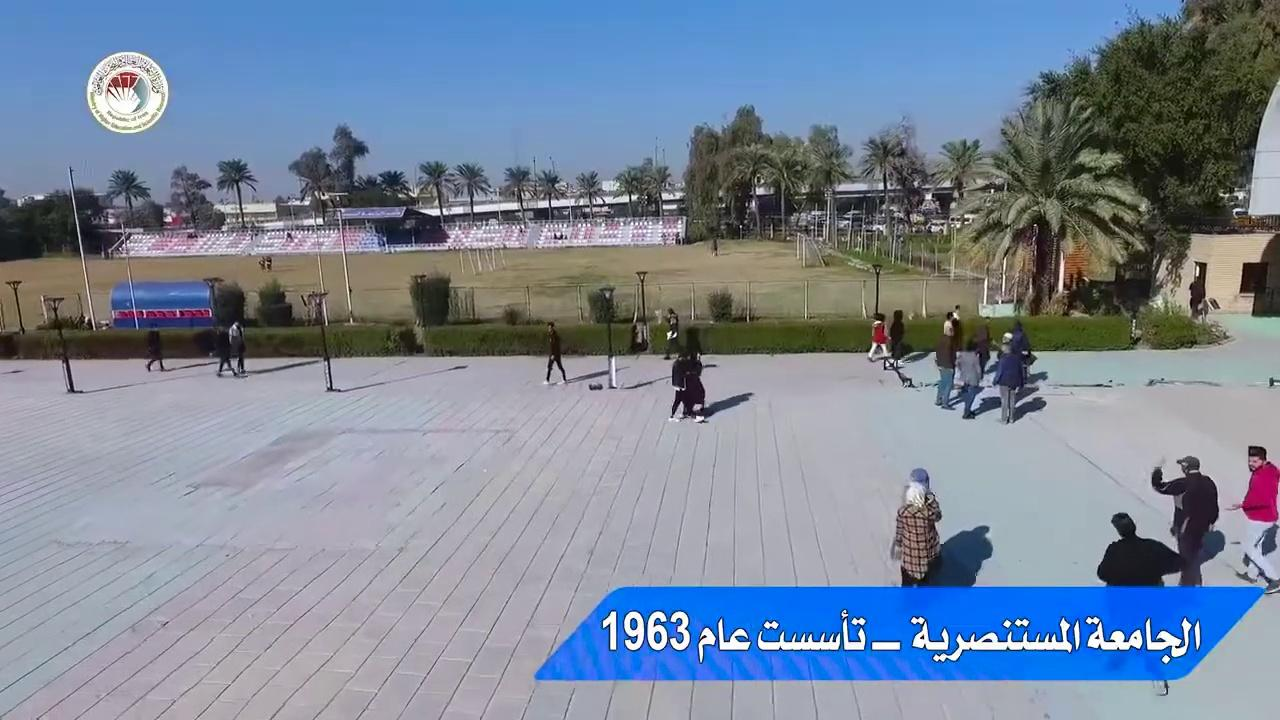fountain: (588, 284, 628, 389), (253, 276, 293, 326), (628, 269, 652, 352)
person: (1151, 455, 1219, 586), (1226, 445, 1279, 593), (1096, 511, 1182, 586), (890, 467, 942, 586), (992, 340, 1024, 424), (954, 335, 983, 419), (669, 351, 692, 420), (543, 321, 567, 384), (213, 324, 237, 377), (867, 312, 890, 361), (887, 309, 905, 368), (144, 323, 166, 371), (228, 320, 247, 375), (663, 307, 678, 359), (1188, 275, 1205, 319), (711, 236, 718, 256)
tree: (949, 95, 1148, 315), (682, 102, 853, 242), (683, 103, 766, 239), (929, 136, 983, 277), (718, 141, 776, 239), (804, 131, 853, 245), (860, 132, 905, 248), (682, 123, 723, 239), (760, 138, 806, 239), (287, 145, 336, 223), (930, 136, 983, 201), (214, 156, 258, 227), (327, 121, 368, 193), (105, 167, 151, 225), (890, 153, 925, 226), (451, 161, 491, 220), (173, 169, 211, 230), (417, 159, 451, 224), (634, 157, 669, 216), (502, 164, 533, 226), (725, 103, 762, 147), (536, 167, 563, 221), (574, 169, 604, 217), (613, 165, 641, 216), (376, 168, 411, 206), (649, 164, 671, 216), (705, 287, 733, 323)
